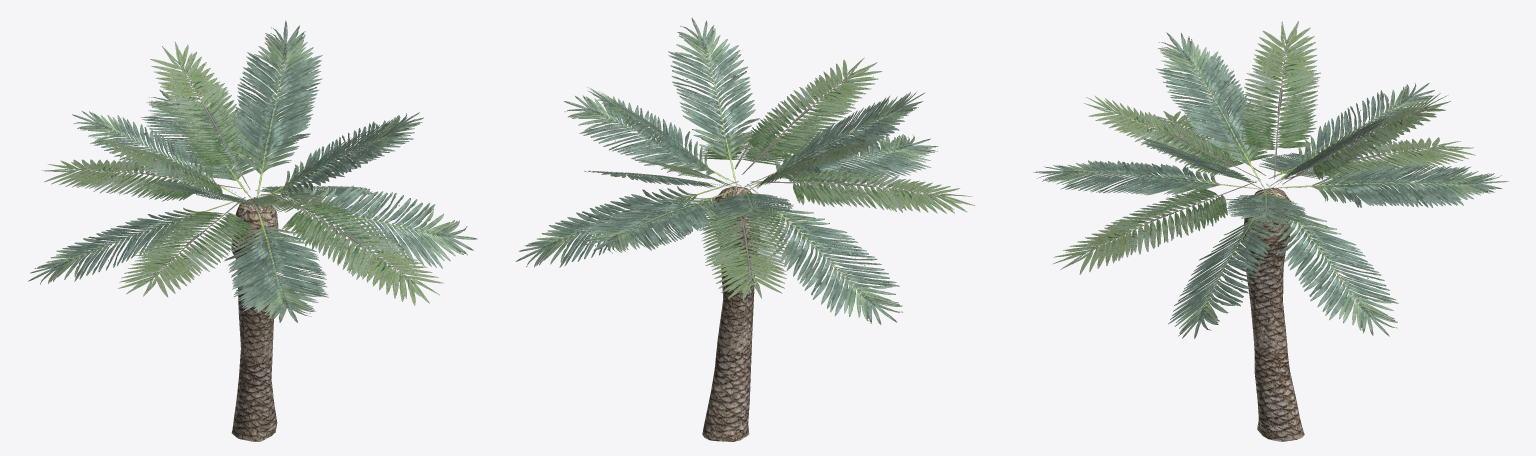
Rendered from palm_tree_8_LOD0.FBX.
3 renders of one model, left to right at view 1: azimuth 30°, elevation 25°; view 2: azimuth 150°, elevation 25°; view 3: azimuth 270°, elevation 25°, orthographic. The views are drawn at different scales.
Parts seen in each view (by area): view 1: leaves, bark; view 2: leaves, bark; view 3: leaves, bark.
Boxes of the visible parts, <box> form: leaves: <box>28,20,477,322</box>; bark: <box>231,197,278,441</box>; leaves: <box>515,17,974,324</box>; bark: <box>702,186,760,441</box>; leaves: <box>1033,21,1509,338</box>; bark: <box>1243,187,1304,441</box>.
Bounding box in the file's own units: 8.09 × 8.52 × 6.68.
